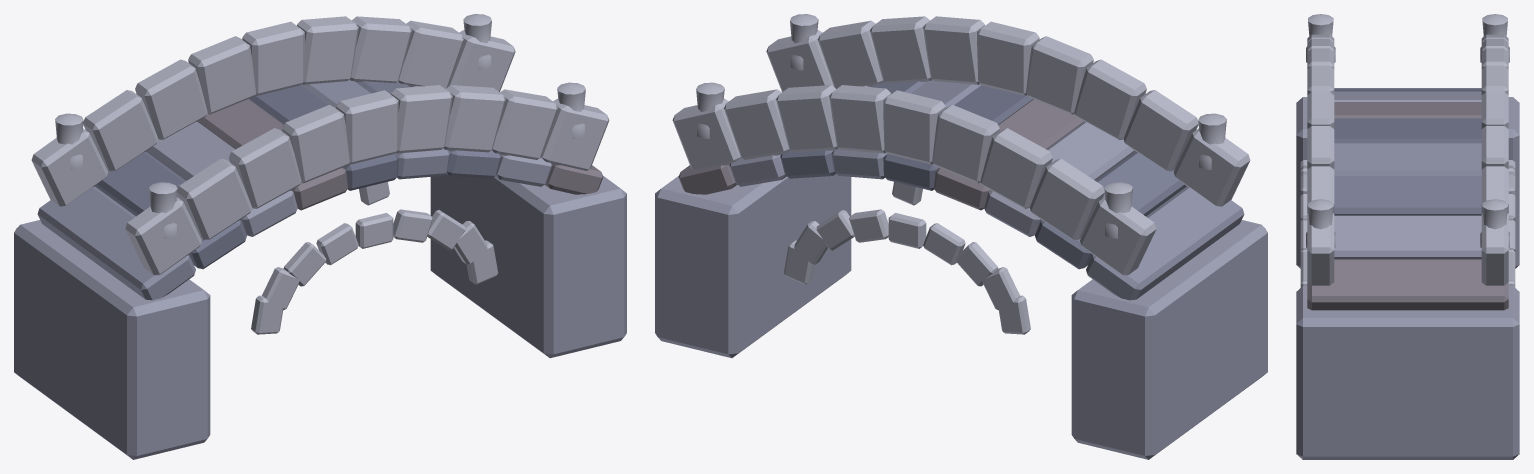
Rendered from magic_bridge.glb.
The picture shows the model from 3 angles, left to right: view 1: azimuth 30°, elevation 25°; view 2: azimuth 150°, elevation 25°; view 3: azimuth 270°, elevation 25°; orthographic projection. The views are drawn at different scales.
Visible parts, largest first — view 1: magic_bridge; view 2: magic_bridge; view 3: magic_bridge.
Boxes of the visible parts, left/top/right/bottom form: magic_bridge: left=14, top=14, right=626, bottom=459; magic_bridge: left=655, top=14, right=1267, bottom=459; magic_bridge: left=1296, top=14, right=1519, bottom=459.
Size of the model in its own units: 2.4 by 1.35 by 1.
